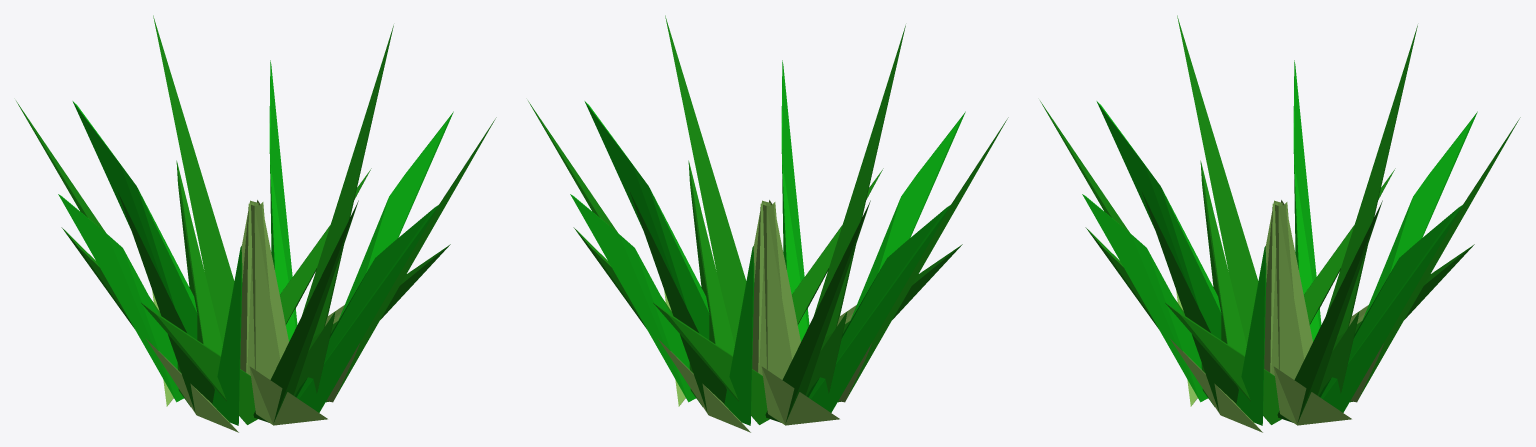
Rendered from grass.obj.
3 renders of one model, left to right at view 1: azimuth 30°, elevation 25°; view 2: azimuth 150°, elevation 25°; view 3: azimuth 270°, elevation 25°, orthographic.
Parts seen in each view (by area): view 1: s.0011, s.0008, s.0009, s.0016, s.0015; view 2: s.0011, s.0008, s.0009, s.0016, s.0015; view 3: s.0011, s.0008, s.0009, s.0016, s.0015.
Part boxes in pixels (<box>): s.0011: <box>58,60,453,425</box>; s.0008: <box>16,15,496,422</box>; s.0009: <box>61,160,450,424</box>; s.0016: <box>240,200,288,379</box>; s.0015: <box>146,290,359,432</box>; s.0011: <box>570,60,965,425</box>; s.0008: <box>528,15,1008,422</box>; s.0009: <box>573,160,962,424</box>; s.0016: <box>752,200,800,379</box>; s.0015: <box>658,290,871,432</box>; s.0011: <box>1082,60,1477,425</box>; s.0008: <box>1040,15,1520,422</box>; s.0009: <box>1085,160,1474,424</box>; s.0016: <box>1264,200,1312,379</box>; s.0015: <box>1170,290,1383,432</box>.
Size of the model in its own units: 0.2822 by 0.204 by 0.3092.
